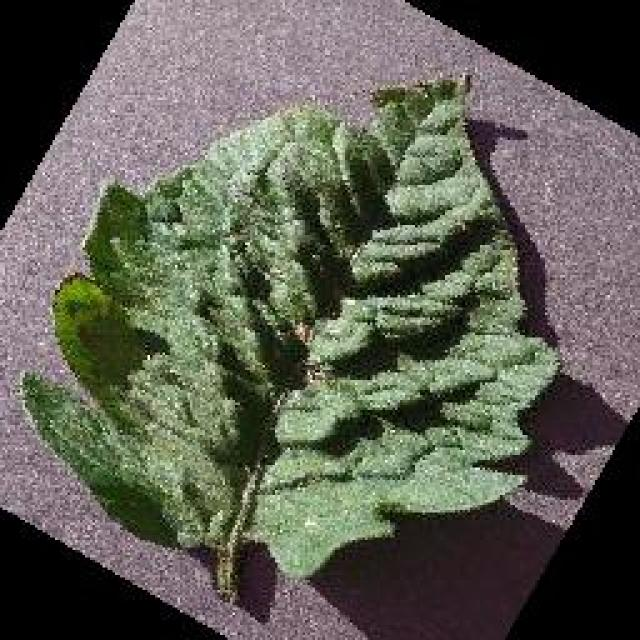Tomato___Target_Spot: (22, 78, 558, 600)
